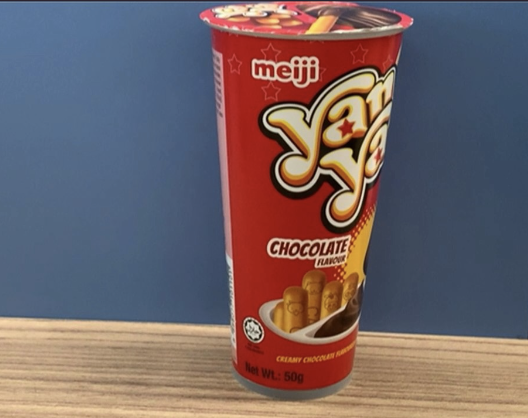cookies_50g: (232, 55, 354, 381)
